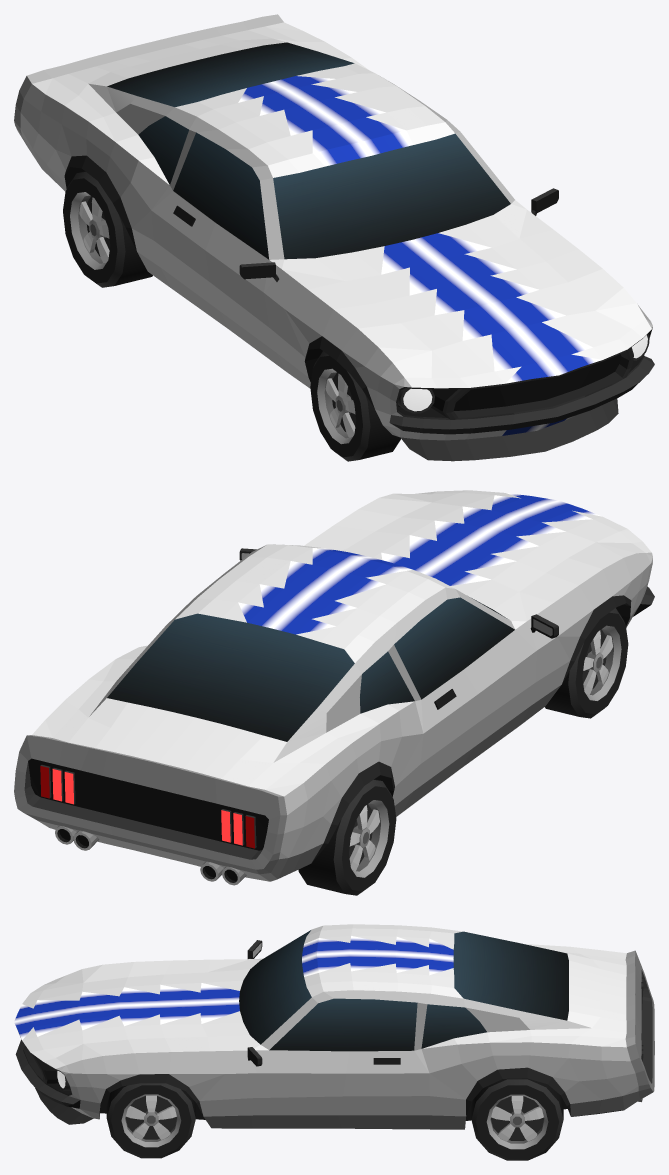
File: ford_mustang_1969.glb
The picture shows the model from 3 angles, top to bottom: view 1: azimuth 30°, elevation 25°; view 2: azimuth 150°, elevation 25°; view 3: azimuth 270°, elevation 25°; orthographic projection. The views are drawn at different scales.
Parts seen in each view (by area): view 1: Body, RRW_mesh, FRW_mesh; view 2: Body, RRW_mesh, FRW_mesh; view 3: Body, RLW_mesh, FLW_mesh.
Part boxes in pixels (box(x1,y1,x2,y2)): Body: box(14, 14, 654, 461); RRW_mesh: box(63, 171, 152, 287); FRW_mesh: box(310, 351, 400, 461); Body: box(14, 490, 654, 885); RRW_mesh: box(298, 779, 396, 895); FRW_mesh: box(545, 608, 628, 718); Body: box(14, 924, 654, 1129); RLW_mesh: box(471, 1078, 563, 1160); FLW_mesh: box(106, 1083, 195, 1158).
Bounding box in the file's own units: 197 × 122 × 449.
Materials: 10 (2 with a texture image).
